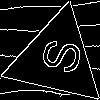S: (31, 34, 83, 77)
